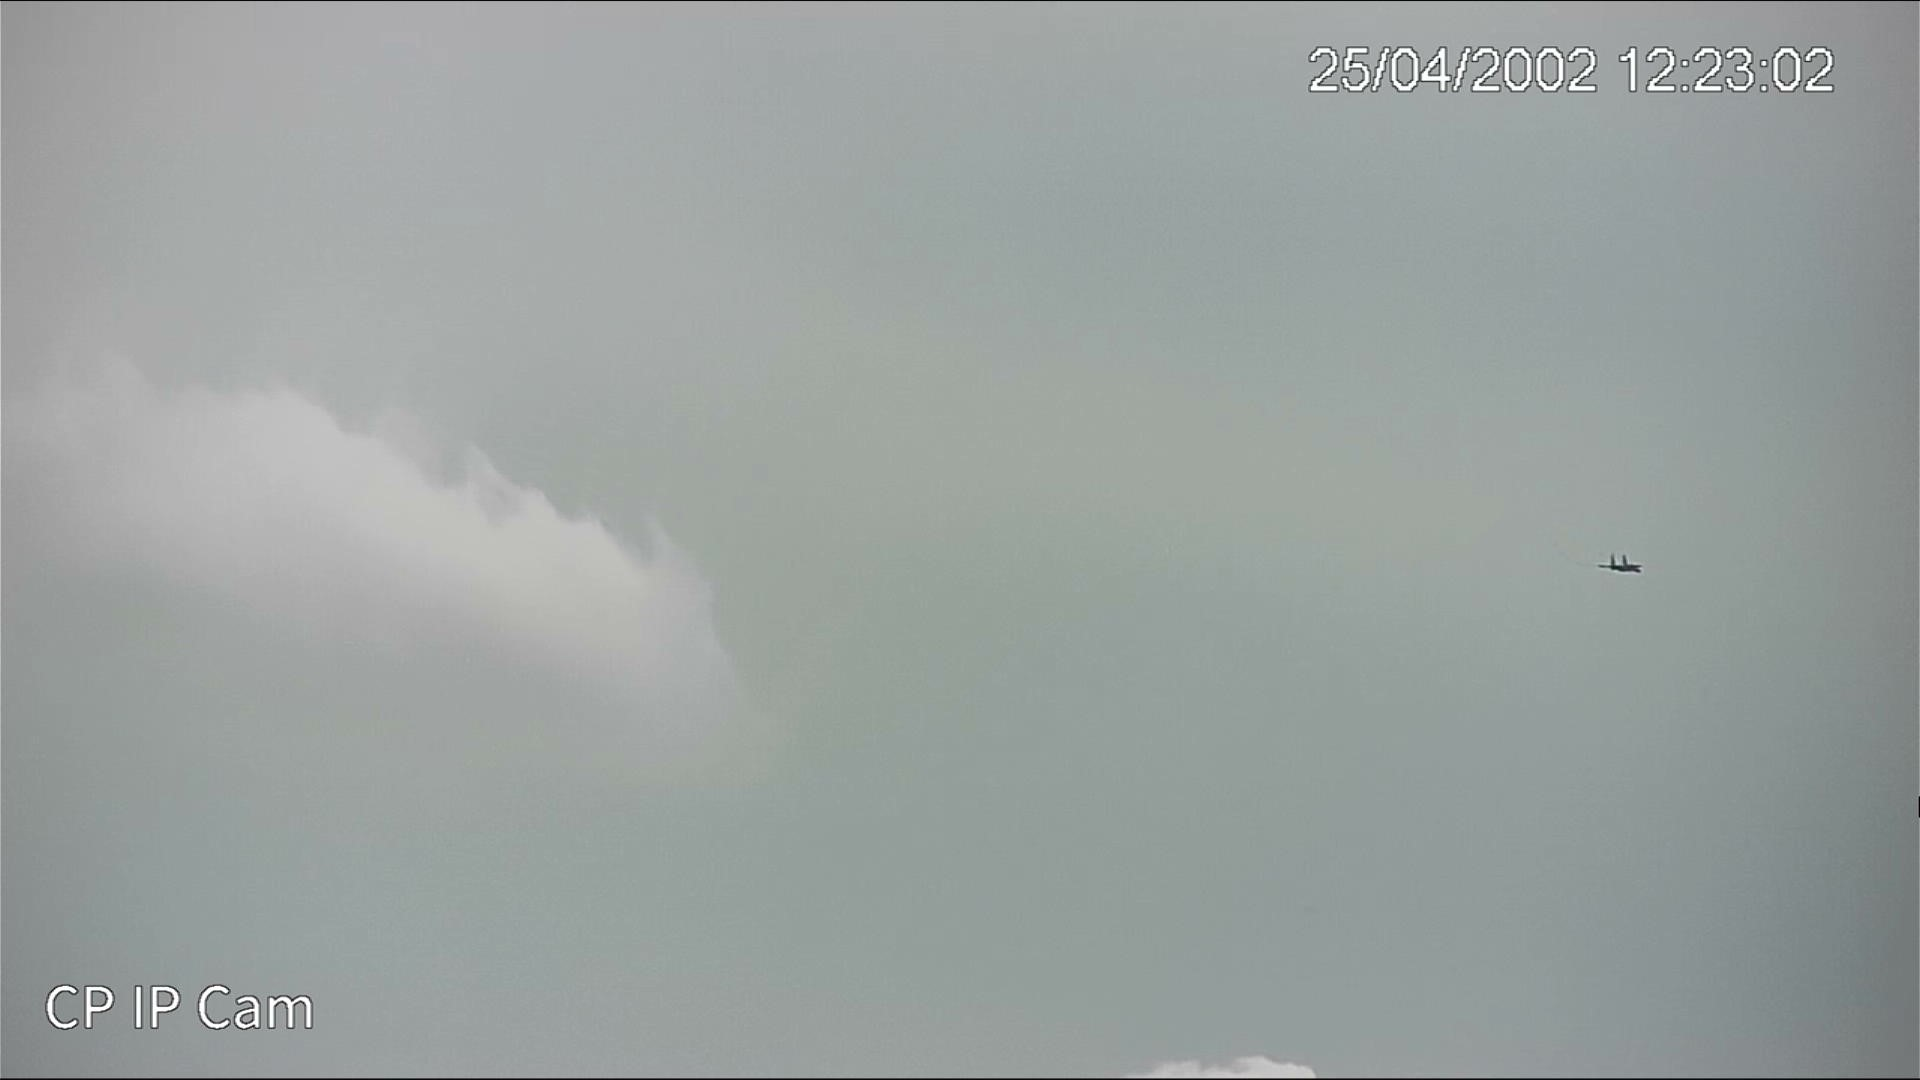SU_30: (1597, 551, 1646, 579)
